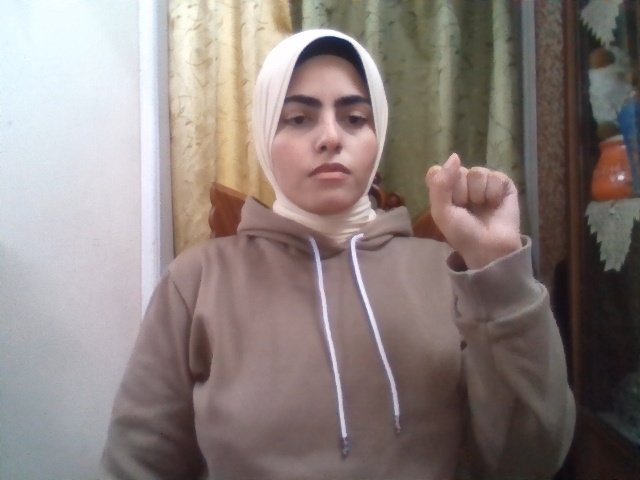S: (427, 153, 520, 258)
